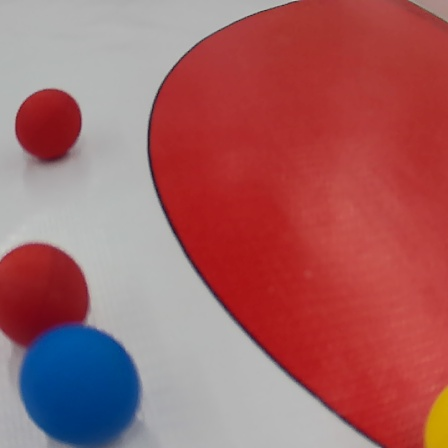blue: (20, 320, 139, 444)
red: (0, 241, 89, 346), (15, 88, 83, 161)
red_base: (149, 1, 448, 448)
yellow: (423, 386, 448, 448)
